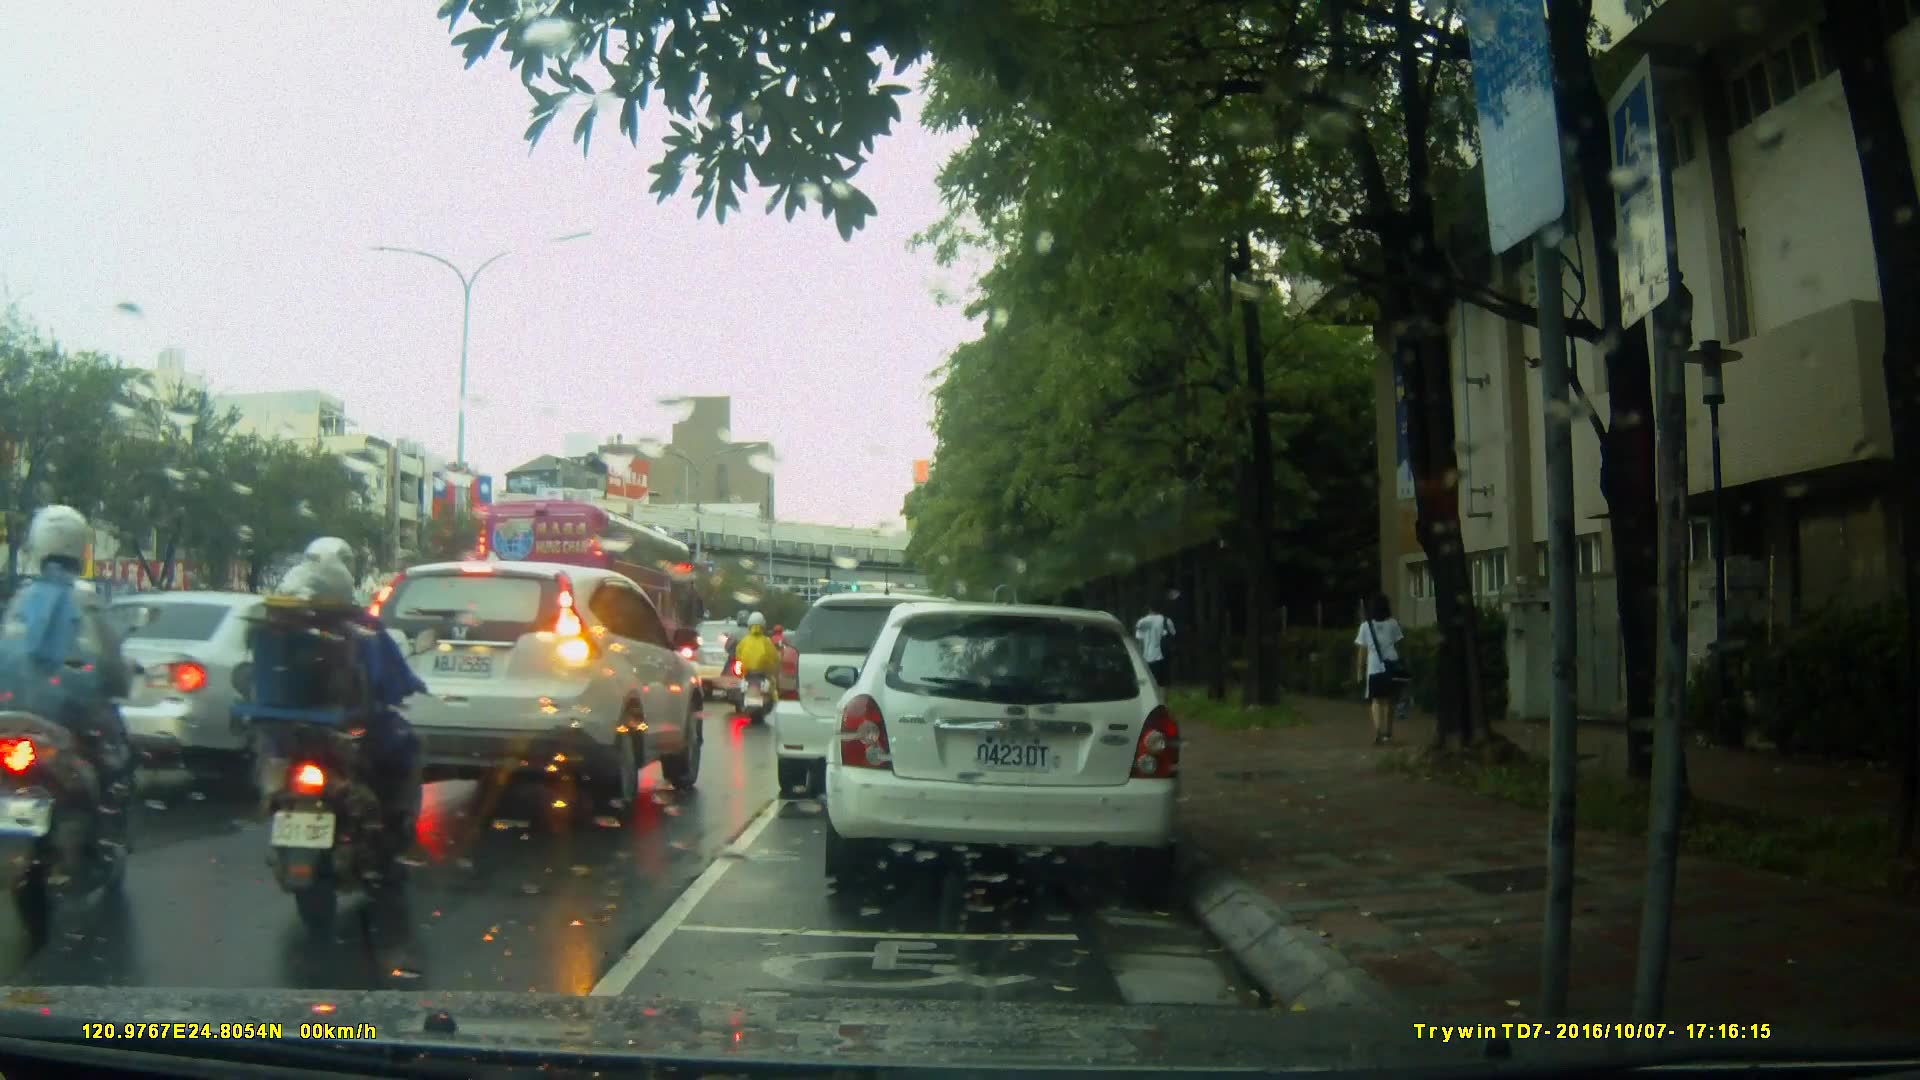pedestrian: (1346, 582, 1421, 763), (1130, 596, 1176, 710)
rider: (223, 528, 431, 945), (1, 507, 154, 943), (736, 612, 779, 724), (726, 605, 767, 714)
vehicle: (835, 594, 1194, 898), (360, 559, 712, 814), (97, 583, 399, 781), (776, 590, 1026, 784), (473, 496, 719, 660), (680, 618, 779, 704)
